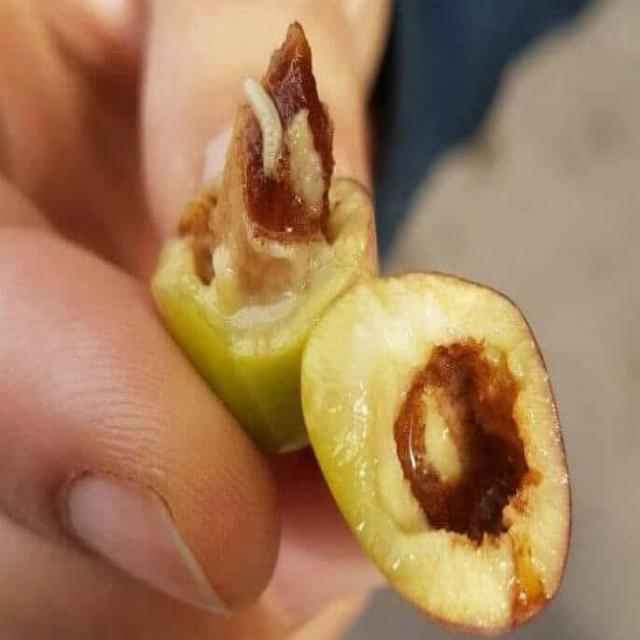Anthracnose: (301, 273, 569, 632), (153, 22, 377, 450)
